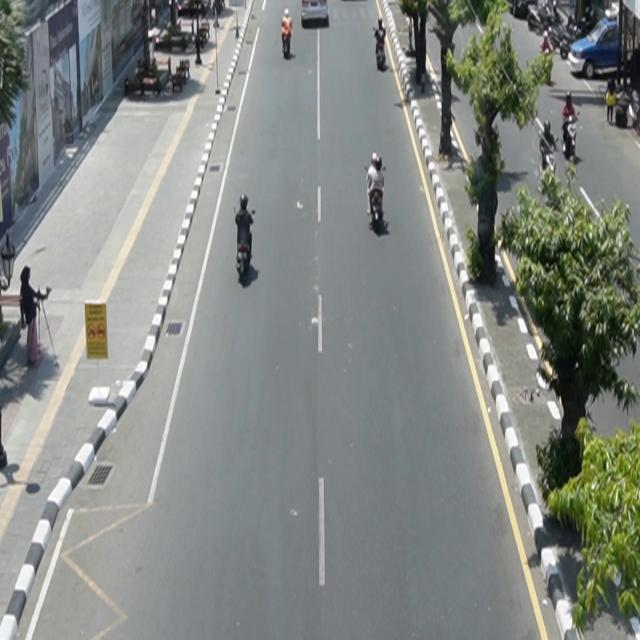car: (569, 16, 636, 80), (302, 1, 329, 23)
